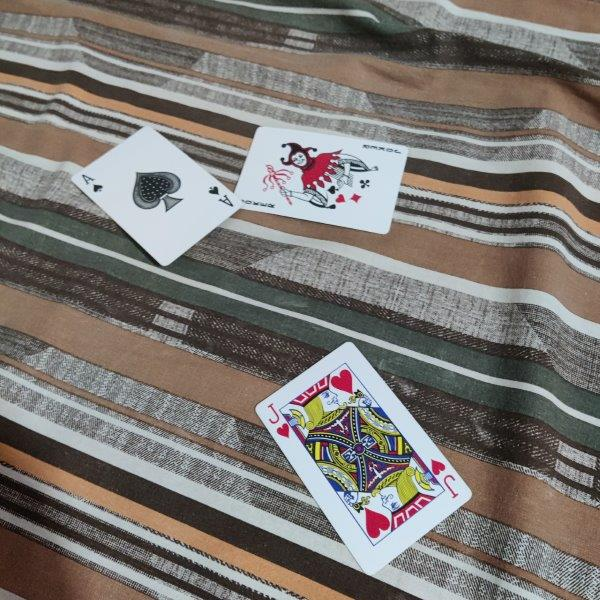Ace of Spades: (70, 126, 242, 268)
Jack of Hearts: (255, 342, 474, 576)
Joker: (234, 126, 409, 235)
